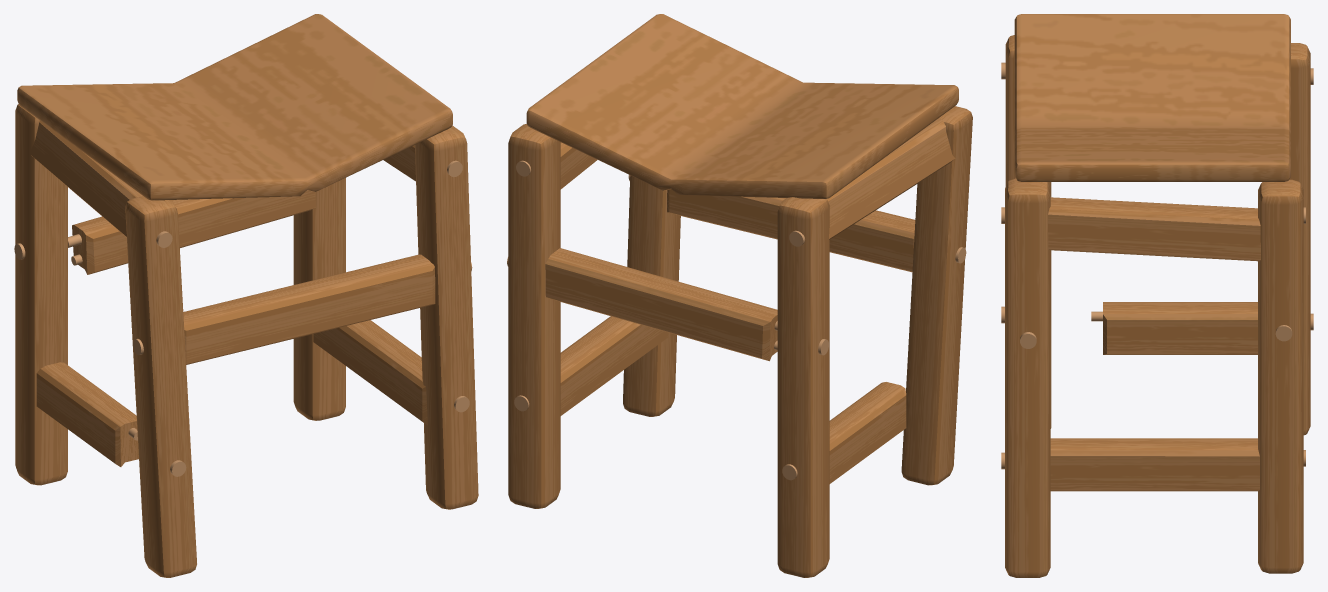
Rendered from Village_Wooden_Chair.fbx.
The picture shows the model from 3 angles, left to right: view 1: azimuth 30°, elevation 25°; view 2: azimuth 150°, elevation 25°; view 3: azimuth 270°, elevation 25°; orthographic projection. The views are drawn at different scales.
Visible parts, largest first — view 1: pCube12; view 2: pCube12; view 3: pCube12.
Part boxes in pixels (box(x1,y1,x2,y2)): pCube12: box(14, 14, 478, 577); pCube12: box(507, 14, 972, 577); pCube12: box(1001, 14, 1313, 577).
Size of the model in its own units: 6.3 by 7.08 by 4.92.
Materials: 1 (1 with a texture image).
